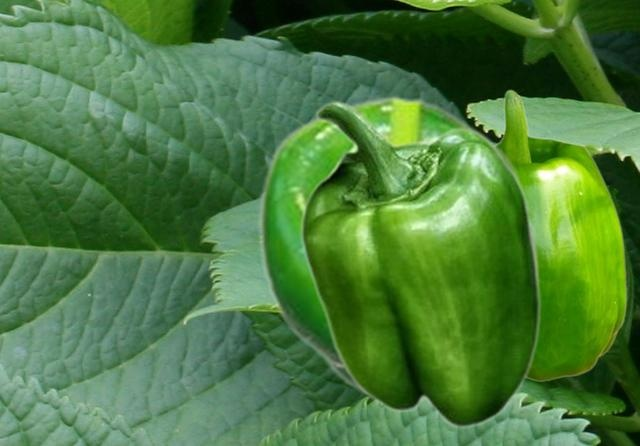bell_pepper: (256, 94, 539, 403), (299, 100, 541, 428), (497, 89, 626, 381)
